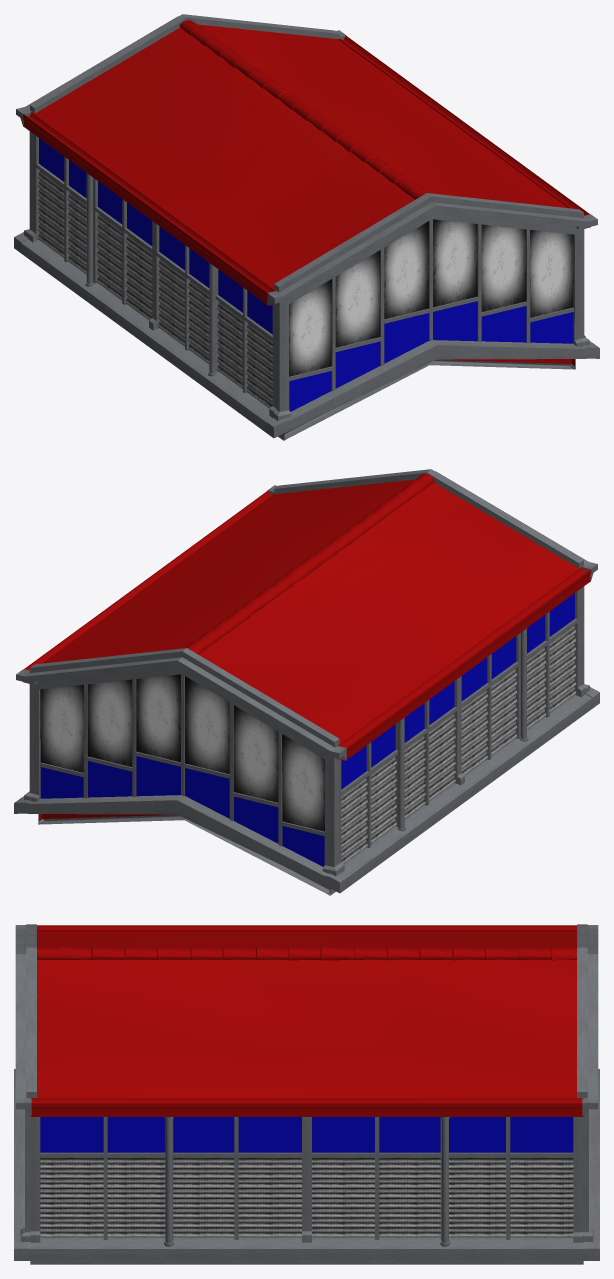
Rendered from M_md_RoofTopFull_end_01.fbx.
The picture shows the model from 3 angles, top to bottom: view 1: azimuth 30°, elevation 25°; view 2: azimuth 150°, elevation 25°; view 3: azimuth 270°, elevation 25°; orthographic projection. The views are drawn at different scales.
Parts seen in each view (by area): view 1: M_md_RoofTopFull_end_01_LOD0, M_md_RoofTopFull_end_01_glass_LOD0; view 2: M_md_RoofTopFull_end_01_LOD0, M_md_RoofTopFull_end_01_glass_LOD0; view 3: M_md_RoofTopFull_end_01_LOD0, M_md_RoofTopFull_end_01_glass_LOD0.
Boxes of the visible parts, bbox=[...] form: M_md_RoofTopFull_end_01_LOD0: bbox=[14, 14, 599, 440]; M_md_RoofTopFull_end_01_glass_LOD0: bbox=[37, 138, 573, 411]; M_md_RoofTopFull_end_01_LOD0: bbox=[14, 469, 599, 895]; M_md_RoofTopFull_end_01_glass_LOD0: bbox=[40, 593, 576, 866]; M_md_RoofTopFull_end_01_LOD0: bbox=[14, 924, 599, 1264]; M_md_RoofTopFull_end_01_glass_LOD0: bbox=[40, 1117, 573, 1237].
Bounding box in the file's own units: 614 × 378 × 847.
